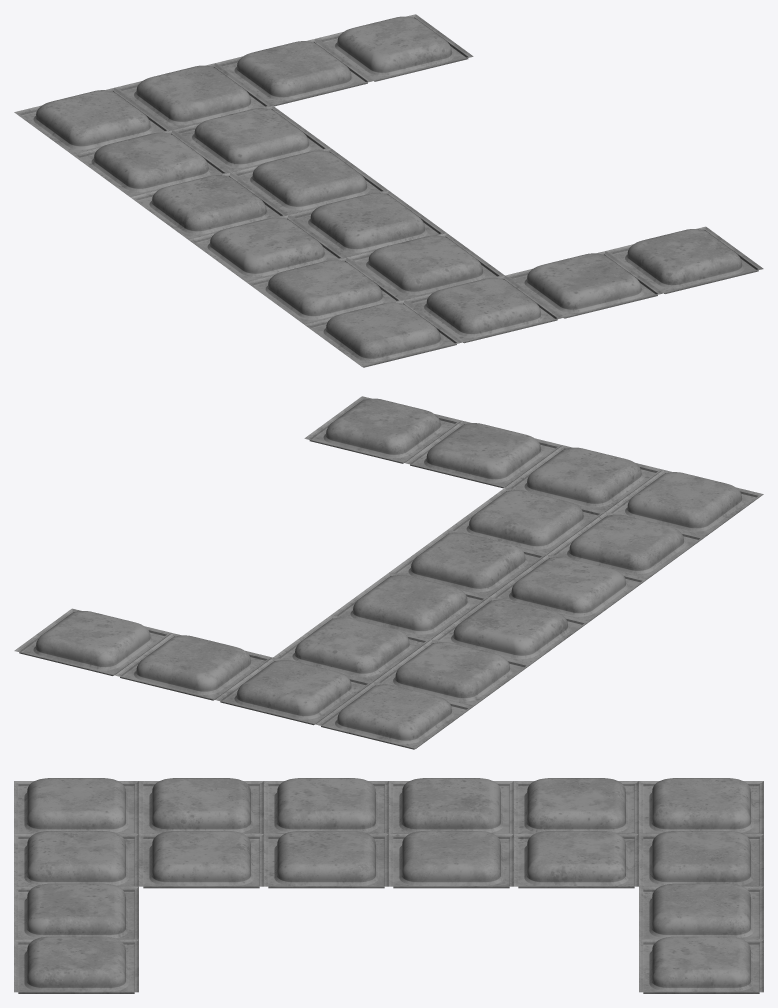
The model's file is SM_Ceiling_05.fbx.
3 renders of one model, top to bottom at view 1: azimuth 30°, elevation 25°; view 2: azimuth 150°, elevation 25°; view 3: azimuth 270°, elevation 25°, orthographic. The views are drawn at different scales.
Visible parts, largest first — view 1: SM_Ceiling_05; view 2: SM_Ceiling_05; view 3: SM_Ceiling_05.
Part boxes in pixels (x1=…): SM_Ceiling_05: x1=14, y1=14, x2=763, y2=367; SM_Ceiling_05: x1=14, y1=396, x2=763, y2=749; SM_Ceiling_05: x1=14, y1=778, x2=763, y2=993.
Bounding box in the file's own units: 400 × 14.2 × 600.
